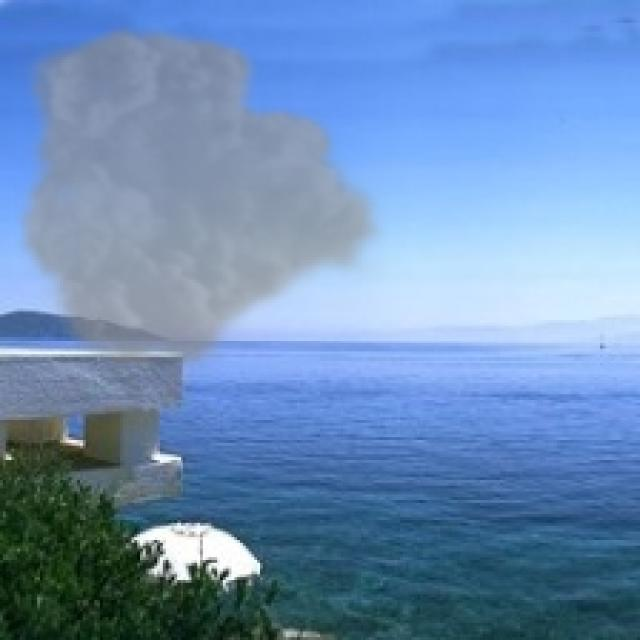Smoke: (14, 20, 389, 377)
